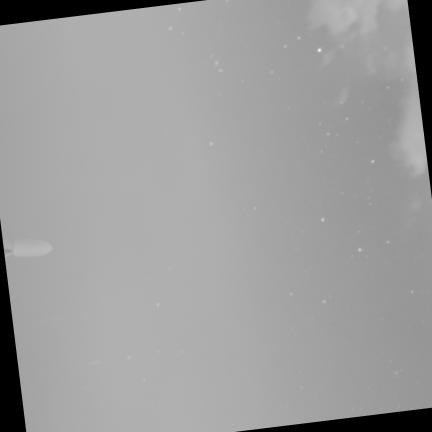Shahed: (2, 239, 51, 256)
